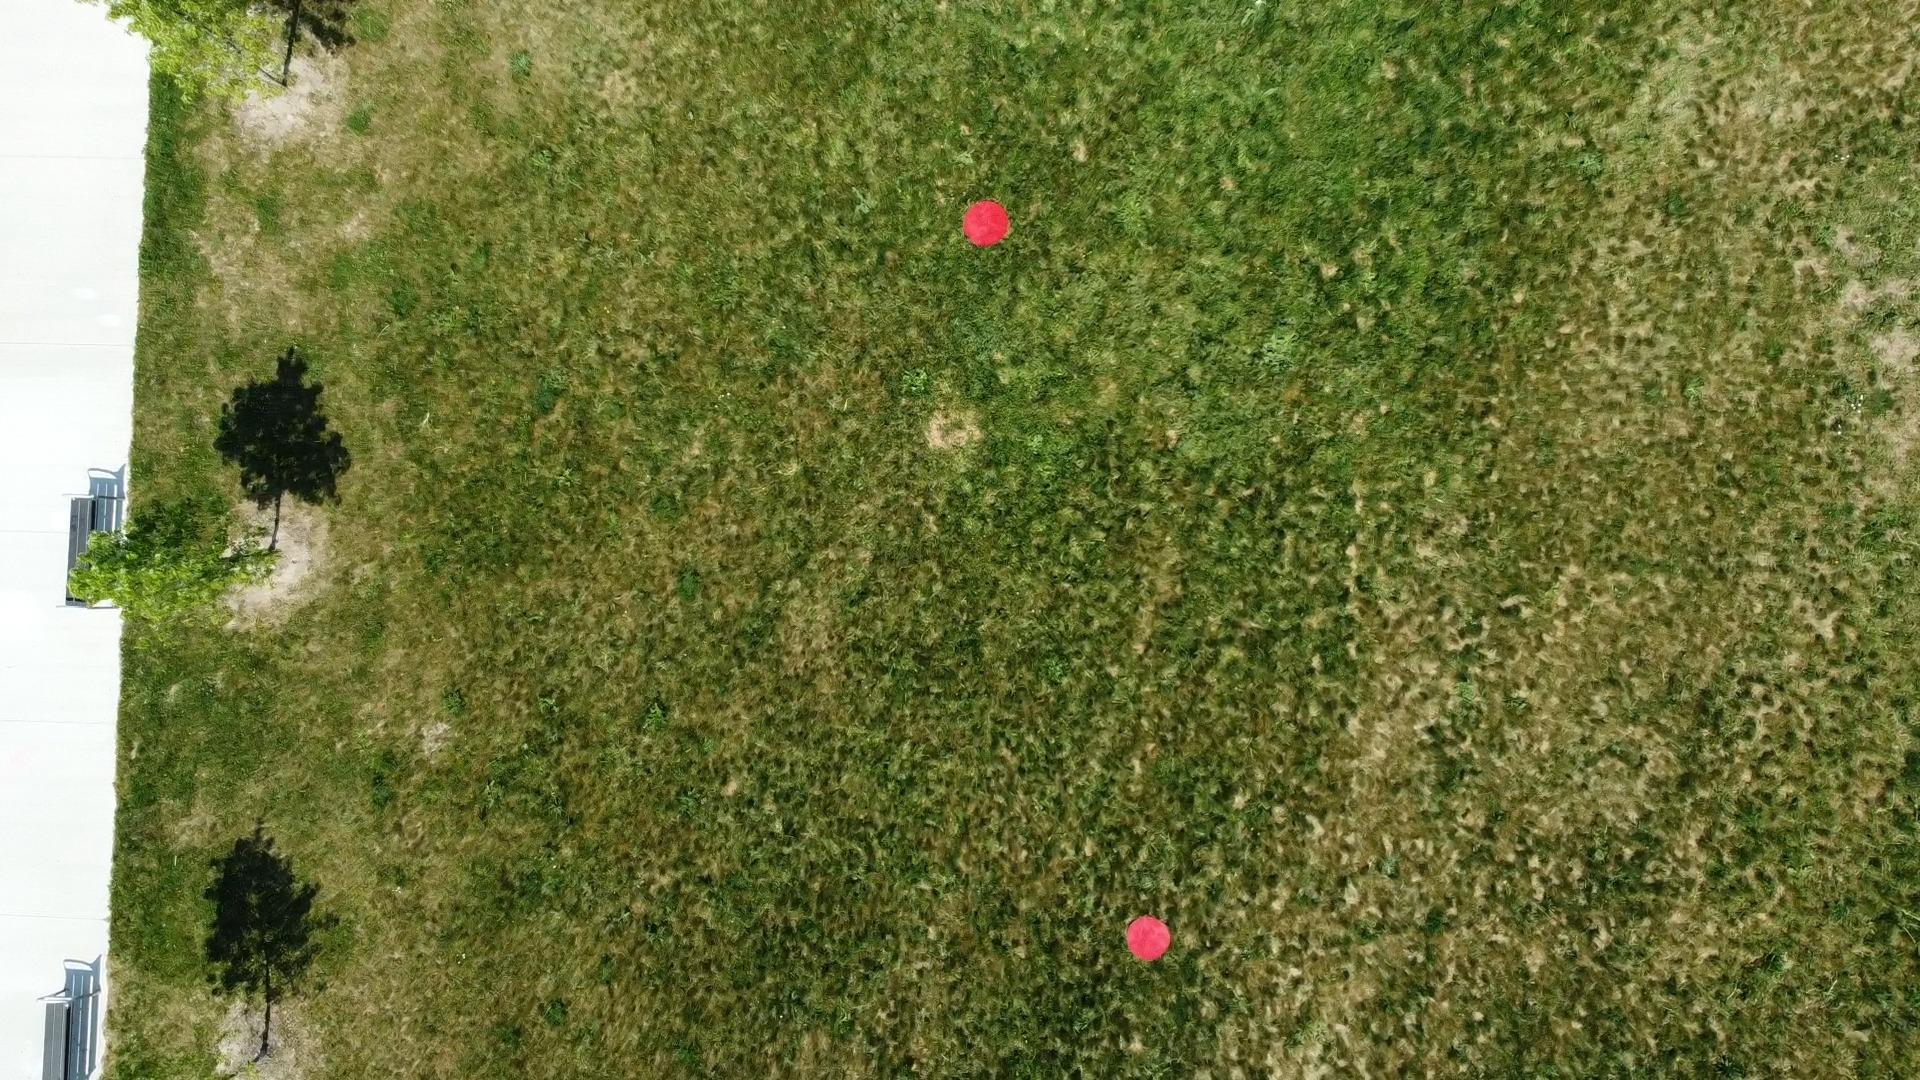Red: (961, 199, 1013, 249), (1125, 914, 1174, 965)
